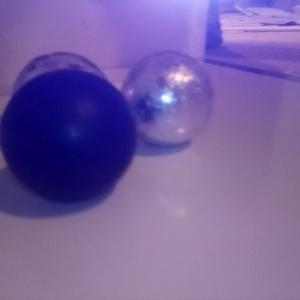alive_ball: (10, 51, 110, 147), (121, 51, 215, 148)
dead_ball: (1, 69, 136, 202)
